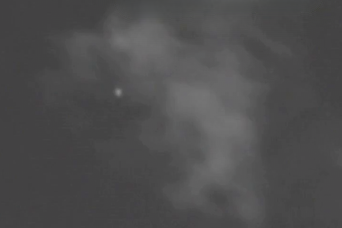Target: (116, 90, 121, 96)
